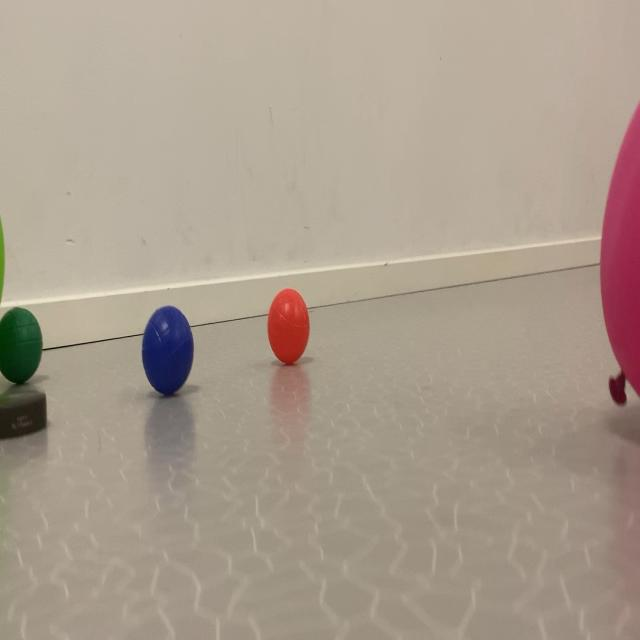balls: (0, 170, 331, 446)
